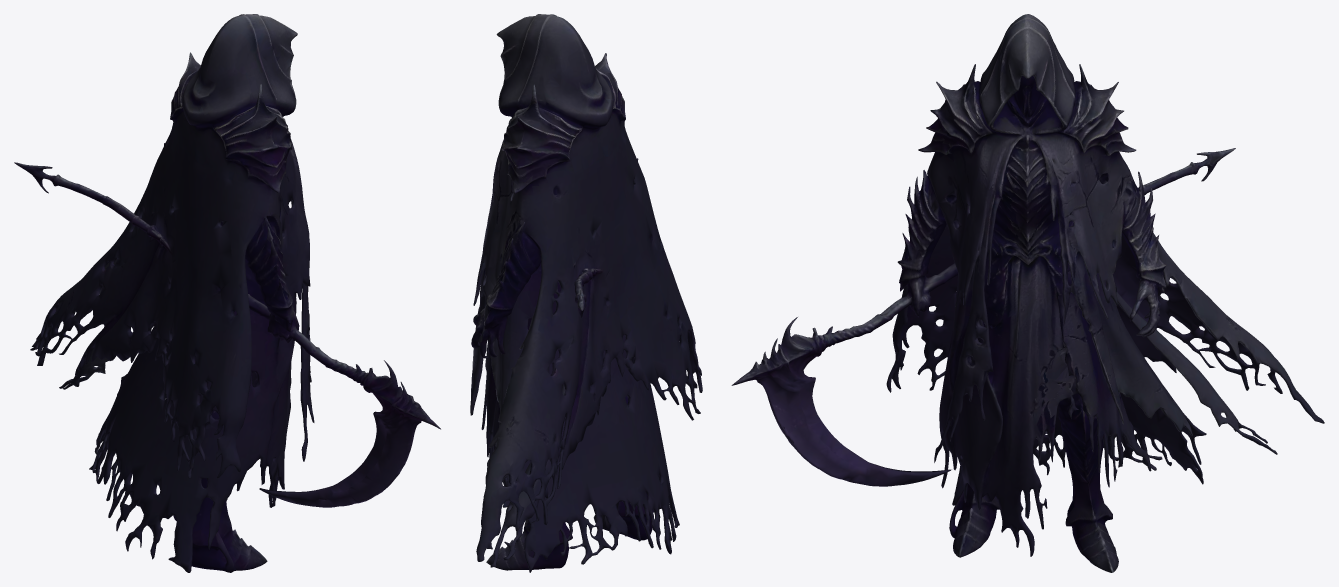
The model's file is ceifador.glb.
3 views of the same model, side by side, from view 1: azimuth 30°, elevation 25°; view 2: azimuth 150°, elevation 25°; view 3: azimuth 270°, elevation 25° (orthographic). The views are drawn at different scales.
Visible parts, largest first — view 1: Ceifador; view 2: Ceifador; view 3: Ceifador.
Part boxes in pixels (x1,y1,x2,y2): Ceifador: (14,14,440,572); Ceifador: (470,14,702,572); Ceifador: (731,14,1324,572).
Bounding box in the file's own units: 0.3738 × 0.9994 × 0.984.
Materials: 1 (1 with a texture image).
